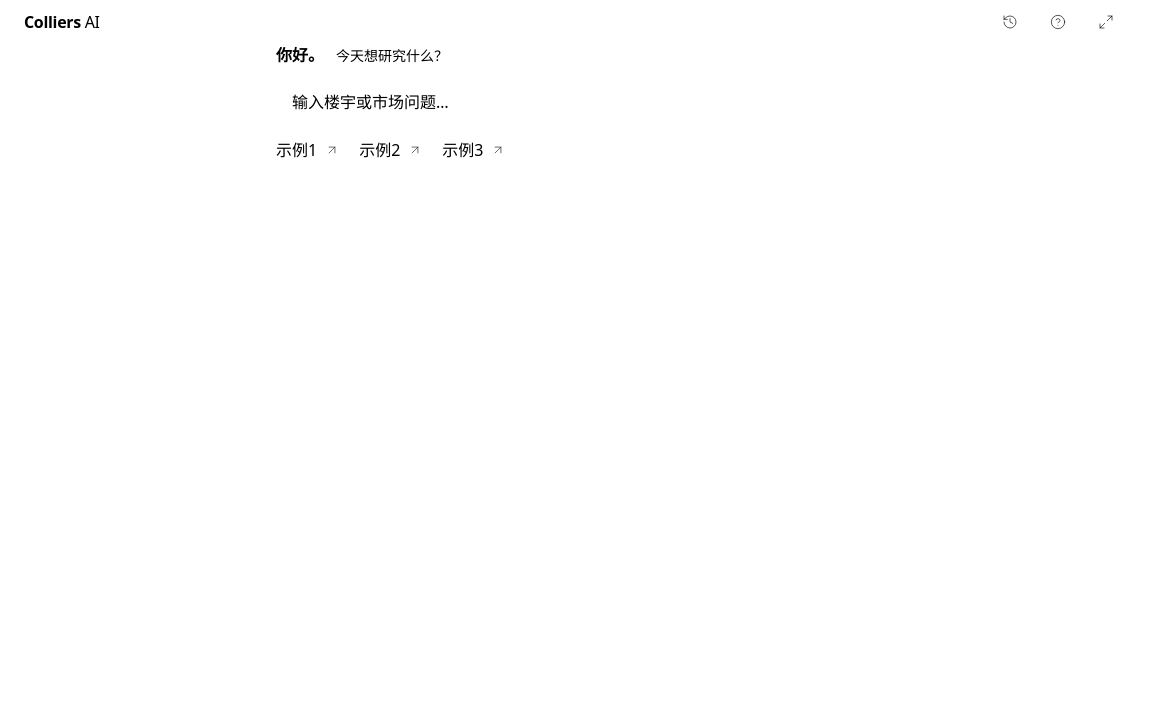
Test case: AI experience regression fixes › returns focus to the retained composer after choosing an example from help
Expected: the text box named "向 Colliers AI 提问" is enabled, [292,88,816,116]
Click the button named "能力与范围" at coordinates (1058, 22), box [1036,0,1080,44]
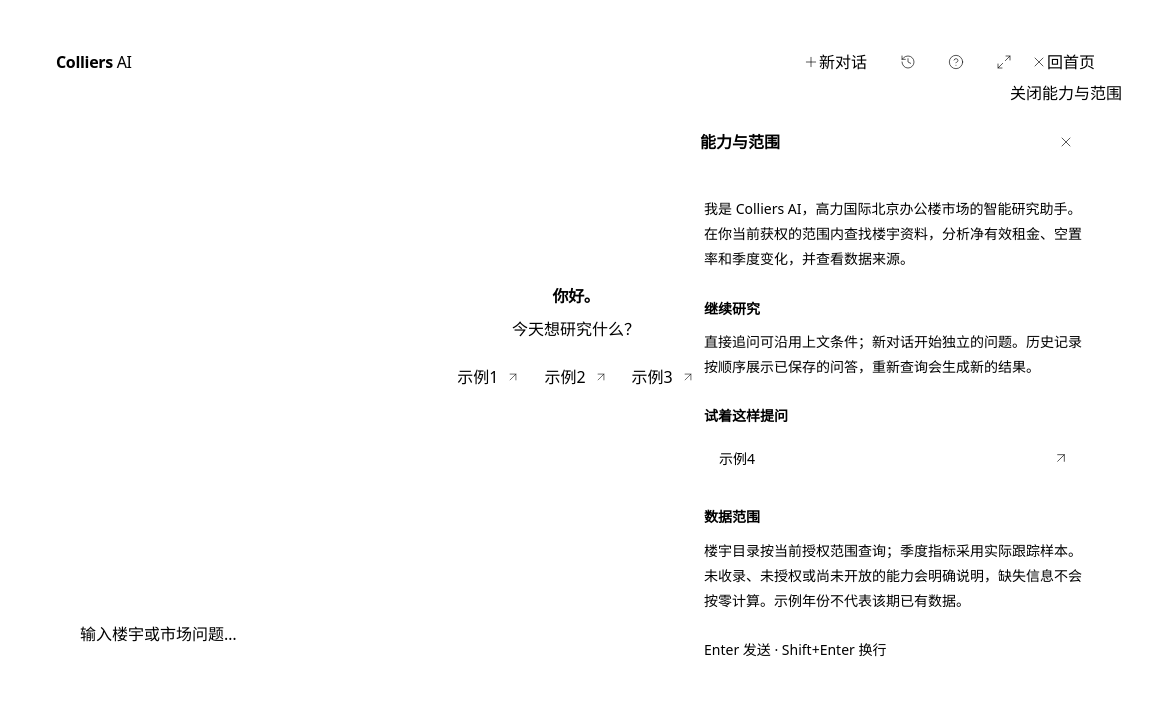
Click the button "示例4" at coordinates (737, 458), box [704,436,1084,480]
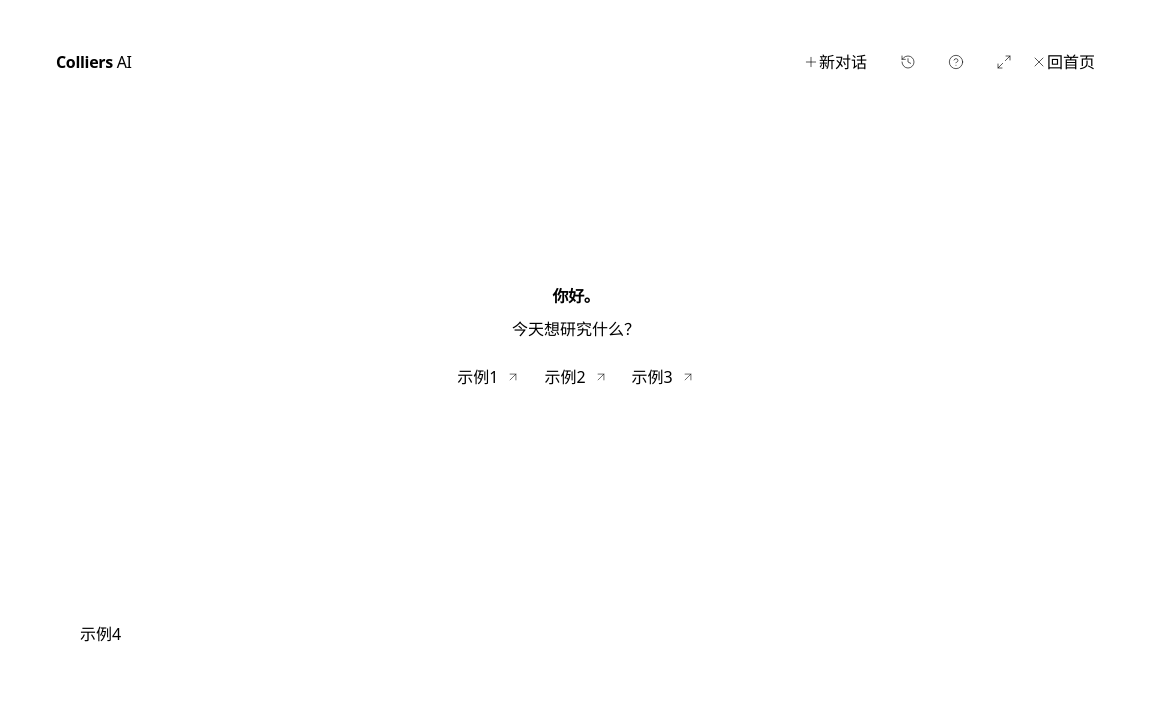
Expected: the heading "能力与范围" is gone
Expected: the text box named "向 Colliers AI 提问" holds "示例4", [80,612,1024,656]
